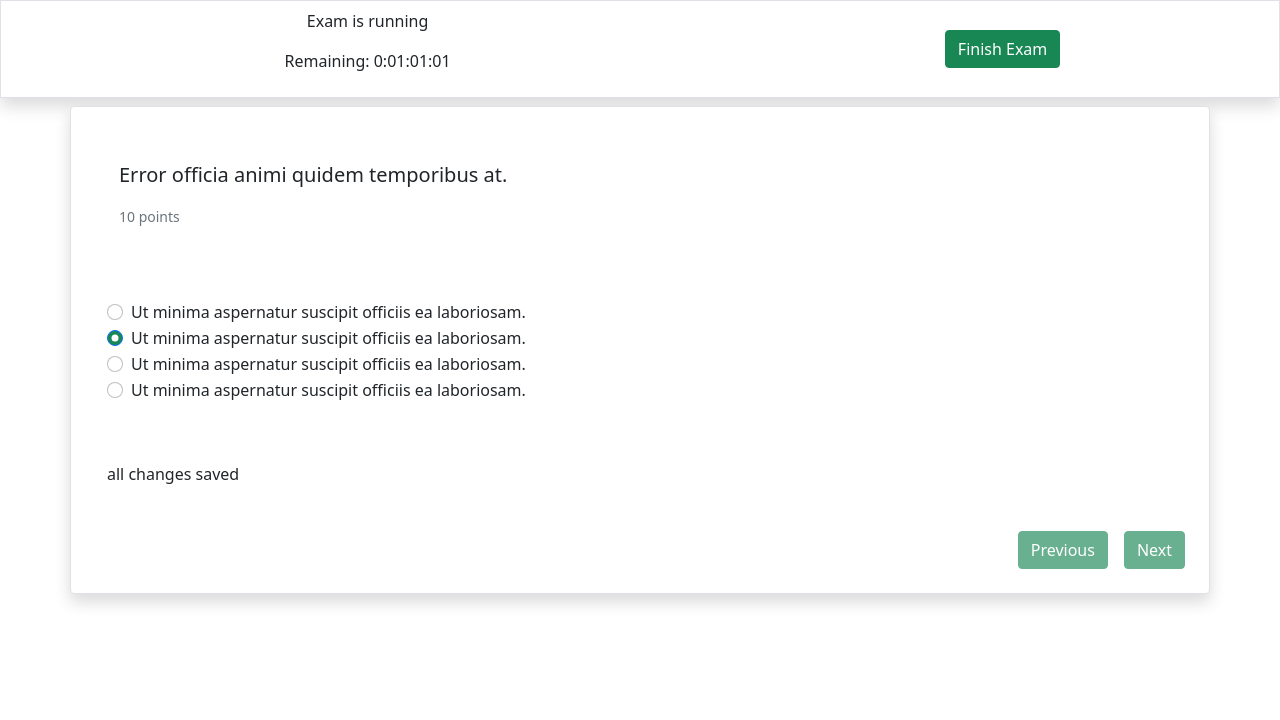
Test: check select the answer questions › if question has answer, user can change the answer
What coordinates should you click on to do the following:
click the 1st radio button labelled "Ut minima aspernatur suscipit officiis ea laboriosam."
I would click on:
 (115, 312)
Its box is [107,304,123,320].
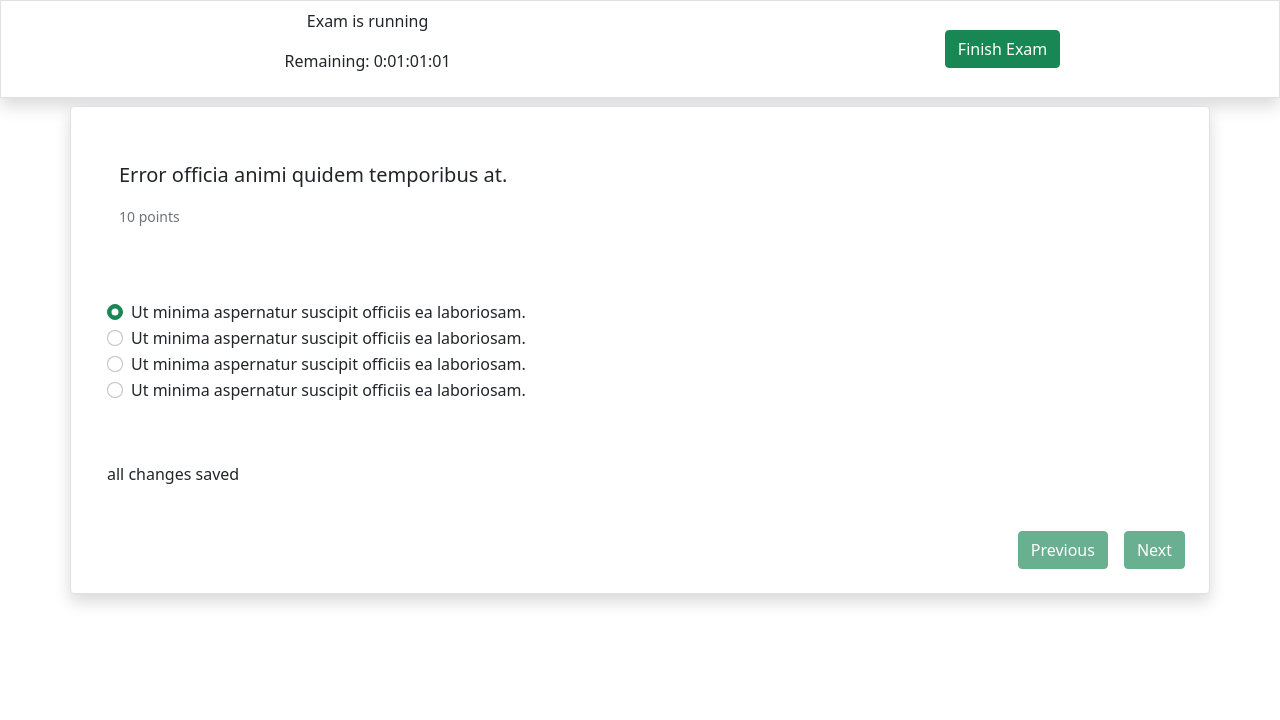
Expected: the text "all changes saved" is shown, [107,463,239,485]
Now the 1st radio button labelled "Ut minima aspernatur suscipit officiis ea laboriosam." is checked, box [107,304,123,320]
Now the 2nd radio button labelled "Ut minima aspernatur suscipit officiis ea laboriosam." is not checked, box [107,330,123,346]
